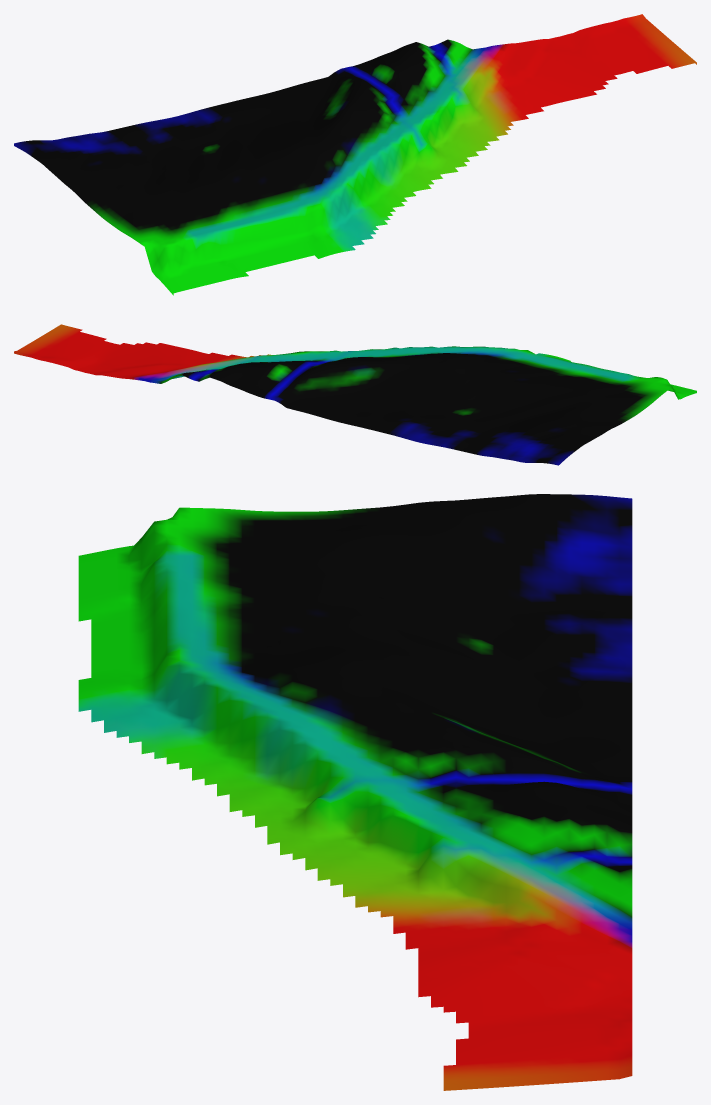
Rendered from coast_-400_400_400.glb.
3 views of the same model, one above another, from view 1: azimuth 30°, elevation 25°; view 2: azimuth 150°, elevation 25°; view 3: azimuth 270°, elevation 25° (orthographic). The views are drawn at different scales.
Parts seen in each view (by area): view 1: terrain; view 2: terrain; view 3: terrain.
Part boxes in pixels (x1,y1,x2,y2): terrain: (14, 14, 696, 295); terrain: (14, 324, 696, 465); terrain: (78, 494, 632, 1090).
Size of the model in its own units: 400 by 26.67 by 176.
